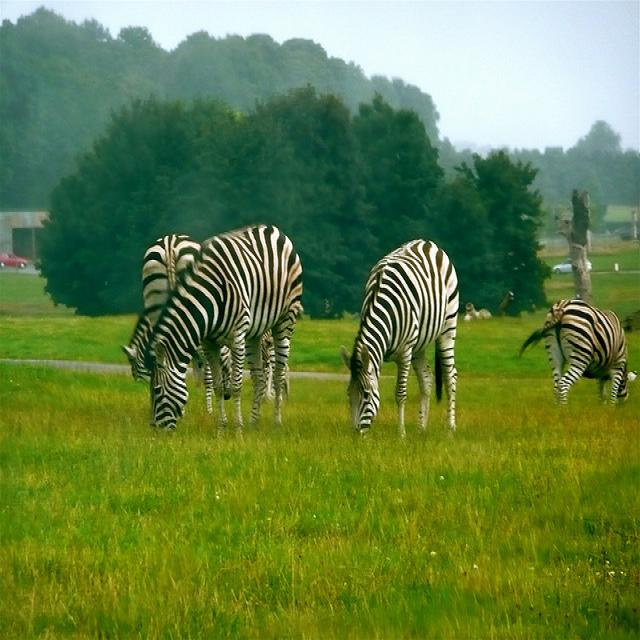Vehicle: (552, 256, 594, 276), (0, 252, 28, 269)
